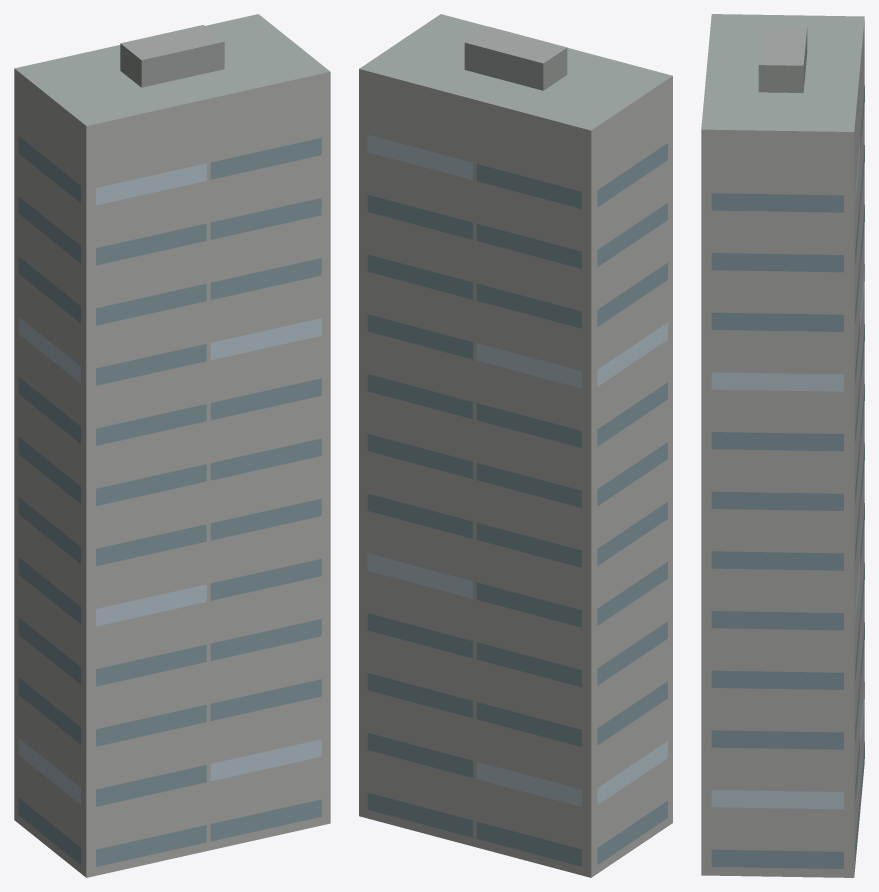
The model's file is fallback-sk-bukhansan-city-105.glb.
The picture shows the model from 3 angles, left to right: view 1: azimuth 30°, elevation 25°; view 2: azimuth 150°, elevation 25°; view 3: azimuth 270°, elevation 25°; orthographic projection.
Visible parts, largest first — view 1: fallback-sk-bukhansan-city-105; view 2: fallback-sk-bukhansan-city-105; view 3: fallback-sk-bukhansan-city-105.
Part boxes in pixels (<box>): fallback-sk-bukhansan-city-105: <box>14,14,330,877</box>; fallback-sk-bukhansan-city-105: <box>359,14,672,877</box>; fallback-sk-bukhansan-city-105: <box>701,14,864,877</box>.
Bounding box in the file's own units: 22.3 × 68 × 13.06.
